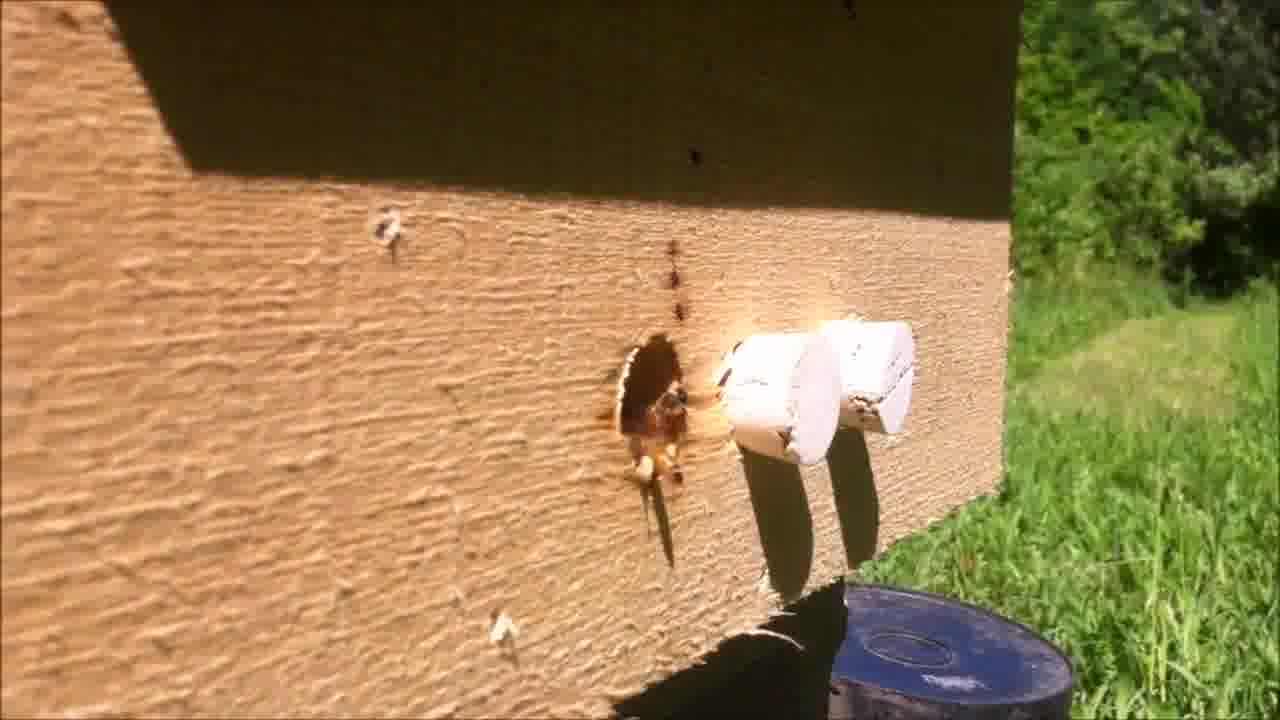pollen: (625, 429, 688, 493)
